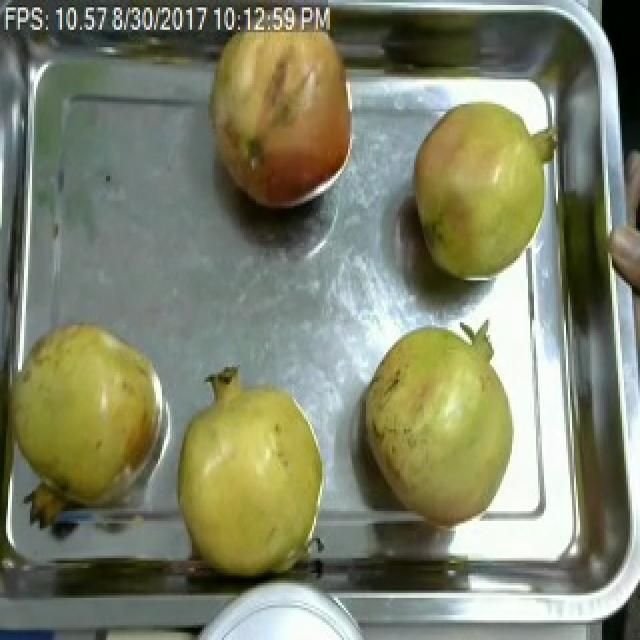fruit: (160, 355, 336, 593), (0, 307, 174, 531), (356, 308, 520, 538), (200, 0, 360, 218), (404, 89, 564, 293)
